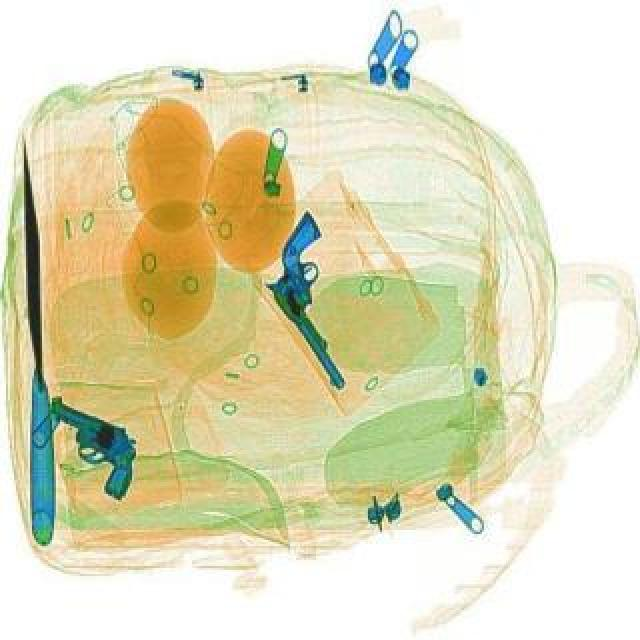gun: (238, 210, 402, 390), (22, 392, 154, 498)
knife: (12, 132, 58, 540)
